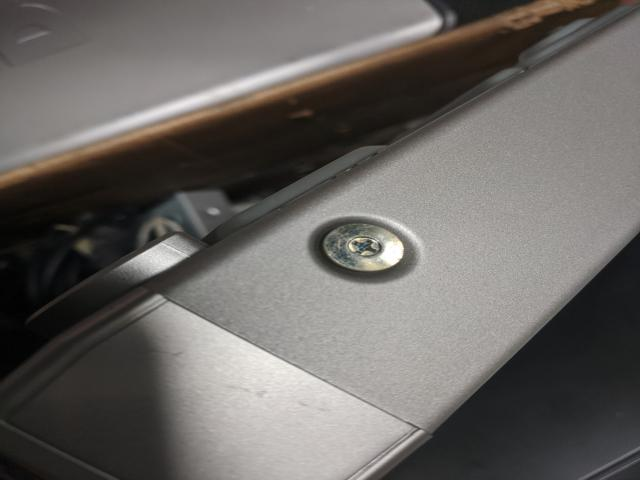CRS: (344, 235, 382, 257)
